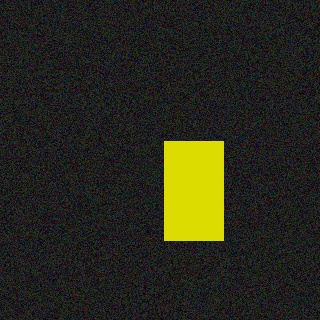yellow_barrel: (164, 142, 224, 241)
